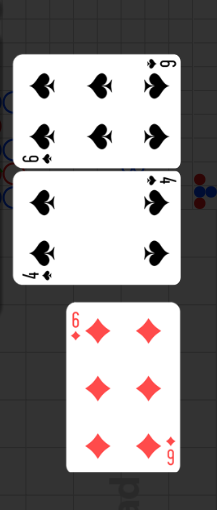4S: (21, 269, 54, 283)
6D: (165, 435, 176, 467)
6S: (144, 58, 177, 71)
